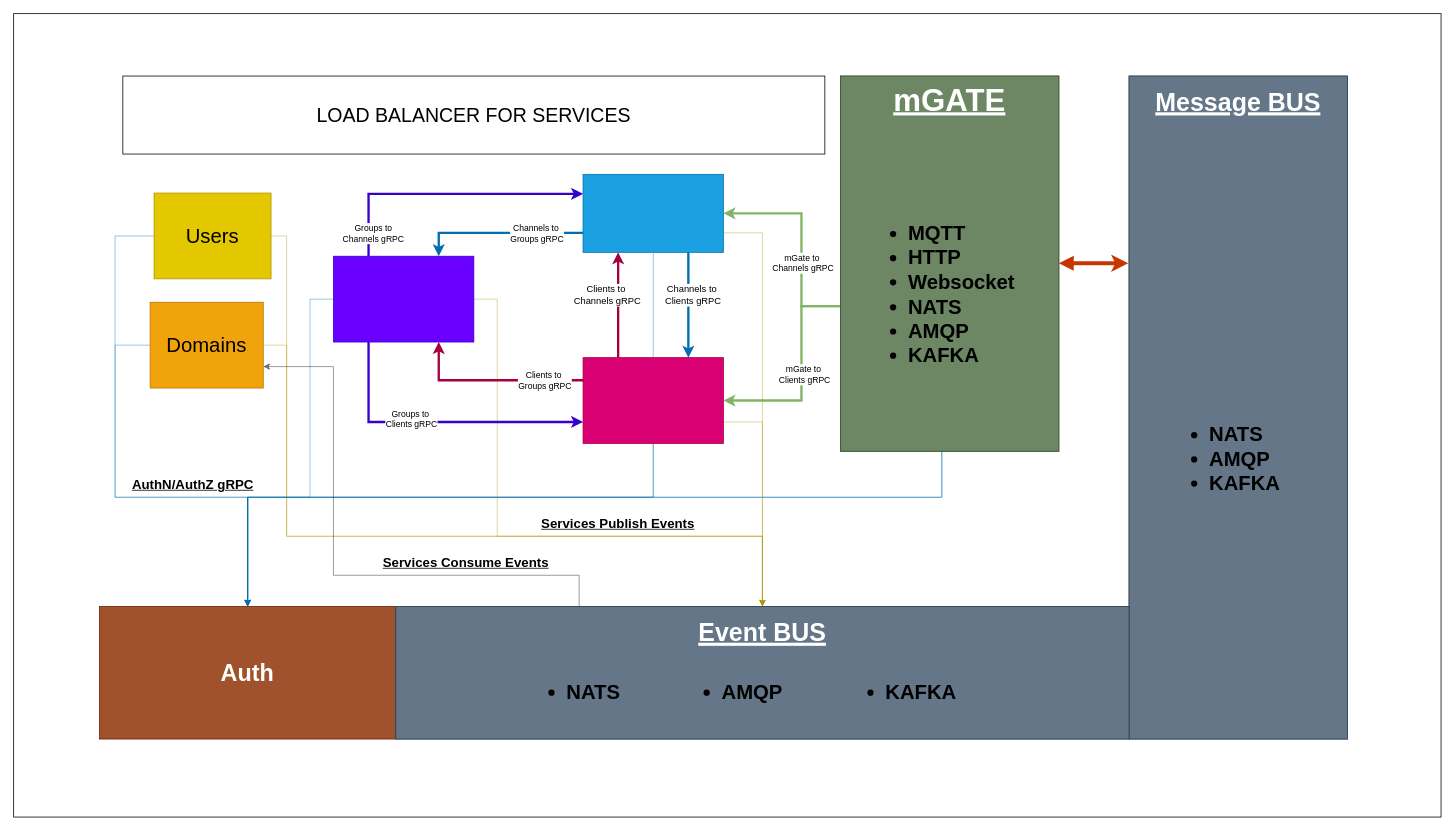
Image size: 1455x831. Some labels were removed from this diagram. Each missing label, with the centre of its shape:
Channels: (x=652, y=213)
Clients: (x=652, y=400)
Groups: (x=403, y=298)
